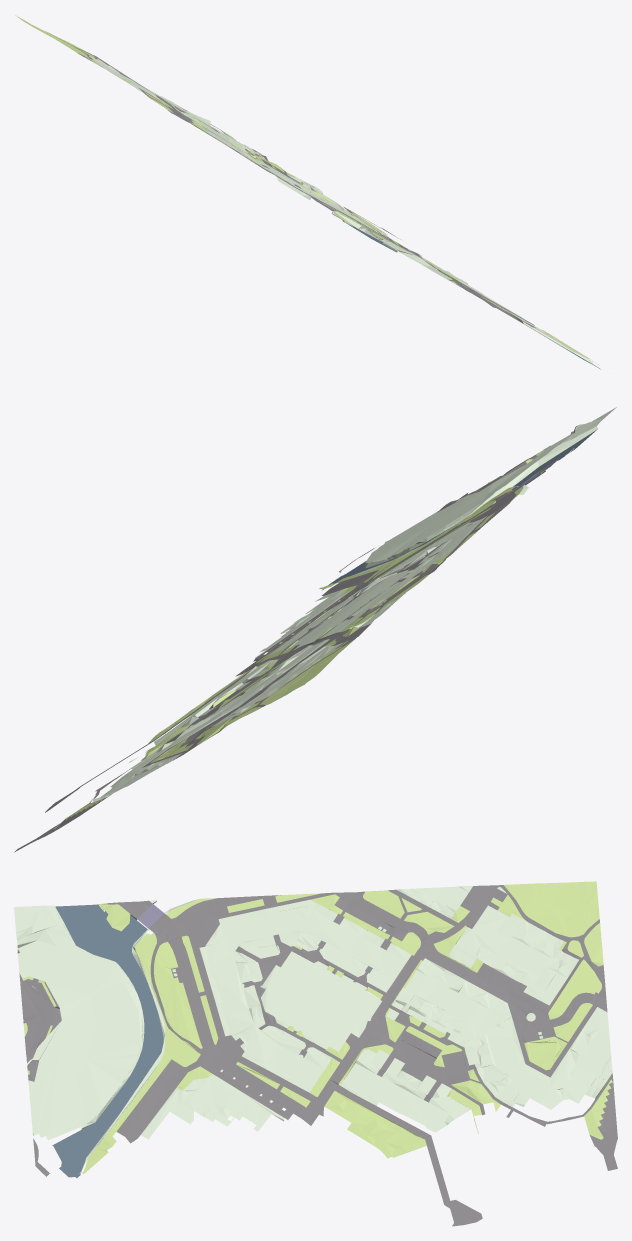
3 views of the same model, one above another, from view 1: azimuth 30°, elevation 25°; view 2: azimuth 150°, elevation 25°; view 3: azimuth 270°, elevation 25° (orthographic). The views are drawn at different scales.
Size of the model in its own units: 134 by 101 by 258.
